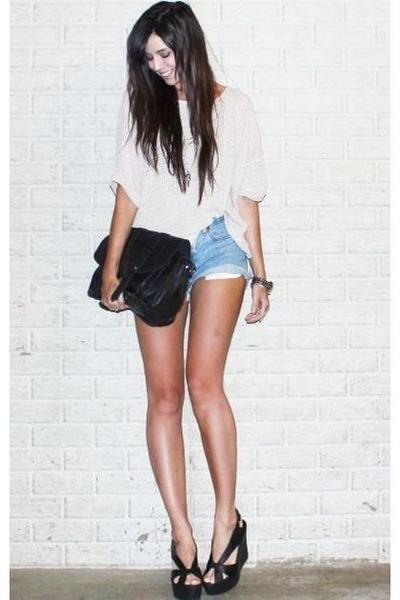bag: (88, 227, 195, 326)
shirt: (116, 84, 264, 251)
shoe: (171, 516, 247, 599)
shorts: (191, 215, 251, 299)
